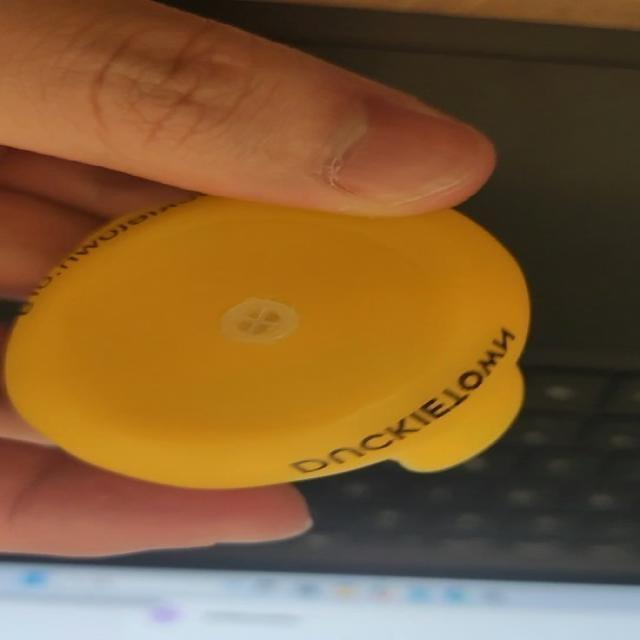rubber-duck: (4, 196, 527, 486)
